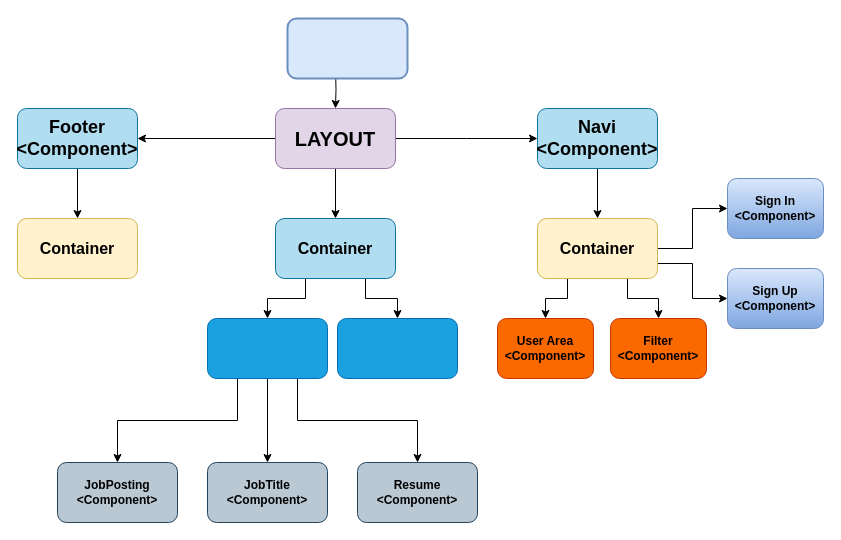
The diagram is 841 pixels wide and 540 high, and some of its shapes have lost their labels. The shapes that lost their labels are listed below. From the top down, each one's centre as x and y in pixels, then its label:
At (347,48): "HRMS APP".
At (267,348): "Dashboard <Component>".
At (397,348): "Sidebar <Component>".
